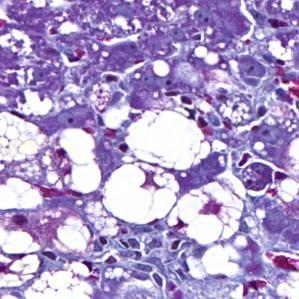ballooning: (120, 103, 216, 179), (164, 168, 249, 248), (100, 159, 181, 226), (35, 125, 104, 197)
